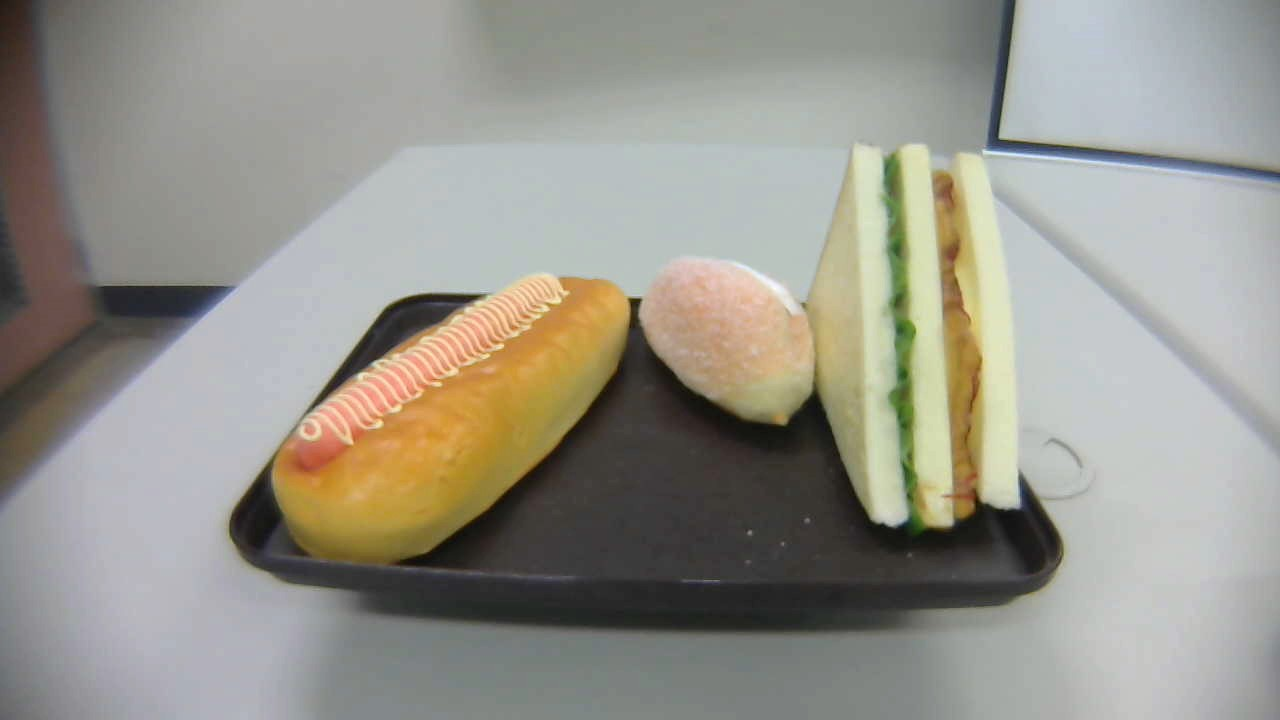coconut: (637, 255, 817, 426)
hot dog: (271, 275, 632, 567)
sandwich: (802, 141, 1024, 536)
